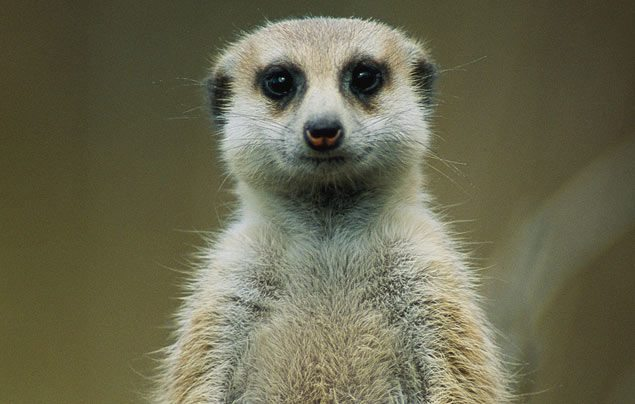meerkat: (151, 8, 528, 404)
